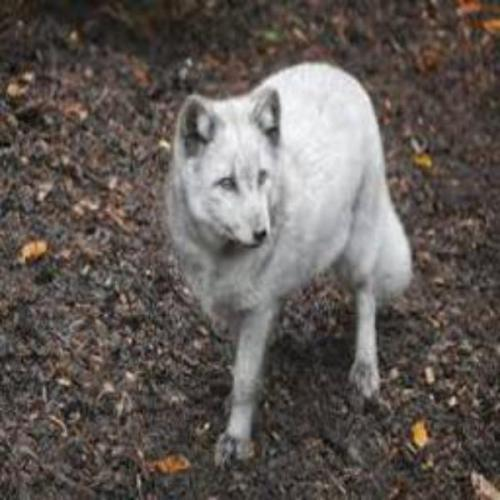arctic_fox-endangered: (162, 65, 412, 469)
